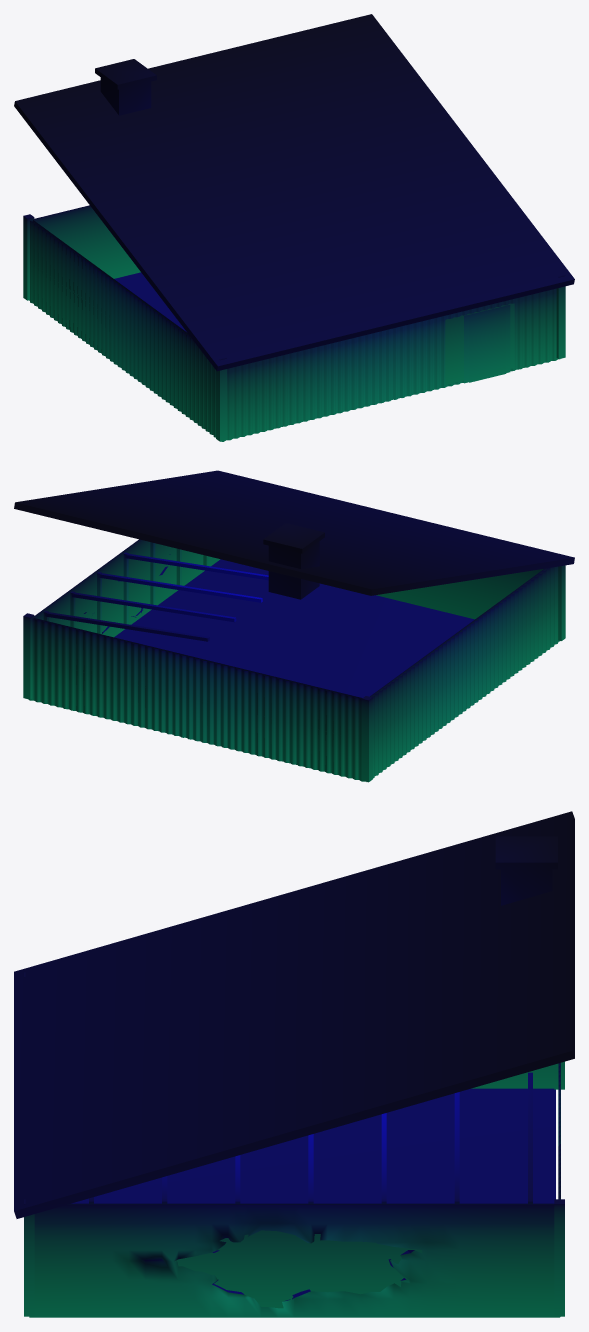
The model's file is tinshack_damaged.glb.
The picture shows the model from 3 angles, top to bottom: view 1: azimuth 30°, elevation 25°; view 2: azimuth 150°, elevation 25°; view 3: azimuth 270°, elevation 25°; orthographic projection. The views are drawn at different scales.
Parts seen in each view (by area): view 1: lod0; view 2: lod0; view 3: lod0.
Boxes of the visible parts, x1=… form: lod0: x1=14, y1=14, x2=574, y2=441; lod0: x1=14, y1=470, x2=574, y2=782; lod0: x1=14, y1=811, x2=574, y2=1317.
Size of what is drawn, in the model's own units: 15.5 by 9 by 15.34.
